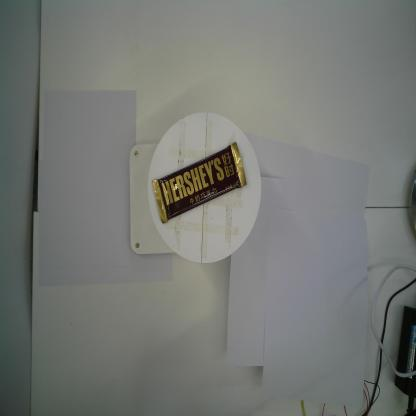Chocolate: (152, 140, 247, 225)
